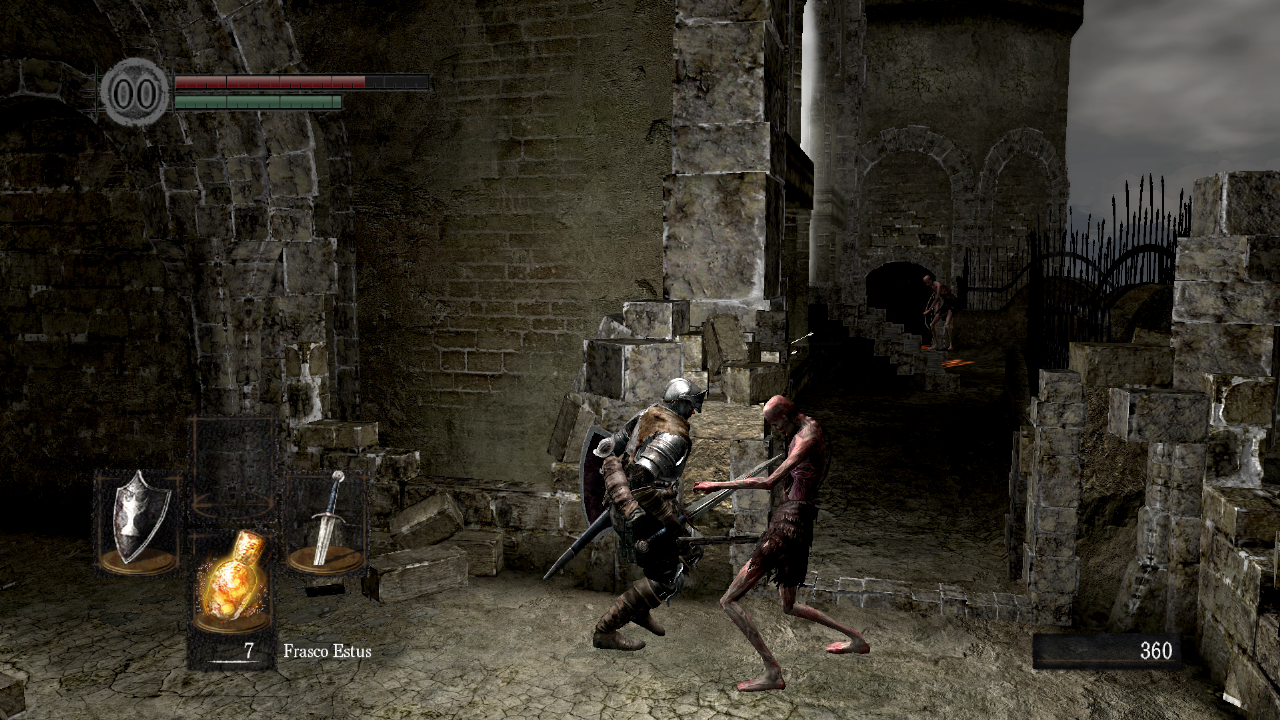hollow: (690, 395, 871, 691), (923, 274, 958, 350)
player: (590, 376, 711, 652)
